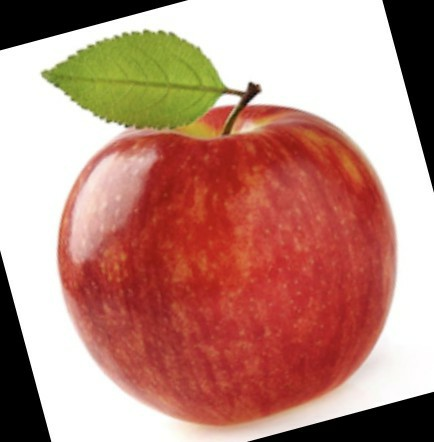fresh_apple: (57, 104, 399, 424)
